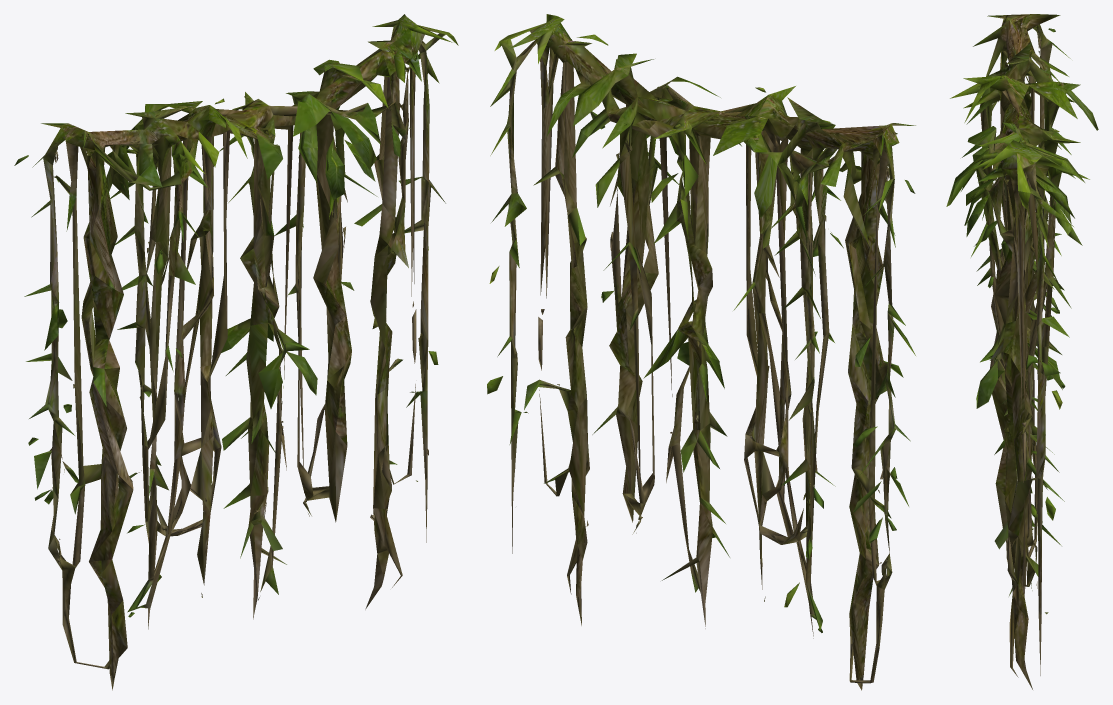
The model's file is VEG_CortinaLianas_01_LOD1.fbx.
The picture shows the model from 3 angles, left to right: view 1: azimuth 30°, elevation 25°; view 2: azimuth 150°, elevation 25°; view 3: azimuth 270°, elevation 25°; orthographic projection. The views are drawn at different scales.
Parts seen in each view (by area): view 1: VEG_CortinaLianas_01_Mesh000; view 2: VEG_CortinaLianas_01_Mesh000; view 3: VEG_CortinaLianas_01_Mesh000.
Part boxes in pixels (left/top/right/bottom): VEG_CortinaLianas_01_Mesh000: left=14, top=14, right=458, bottom=690; VEG_CortinaLianas_01_Mesh000: left=487, top=14, right=915, bottom=690; VEG_CortinaLianas_01_Mesh000: left=946, top=14, right=1098, bottom=689.
Bounding box in the file's own units: 2.65 × 3.5 × 0.8464.
